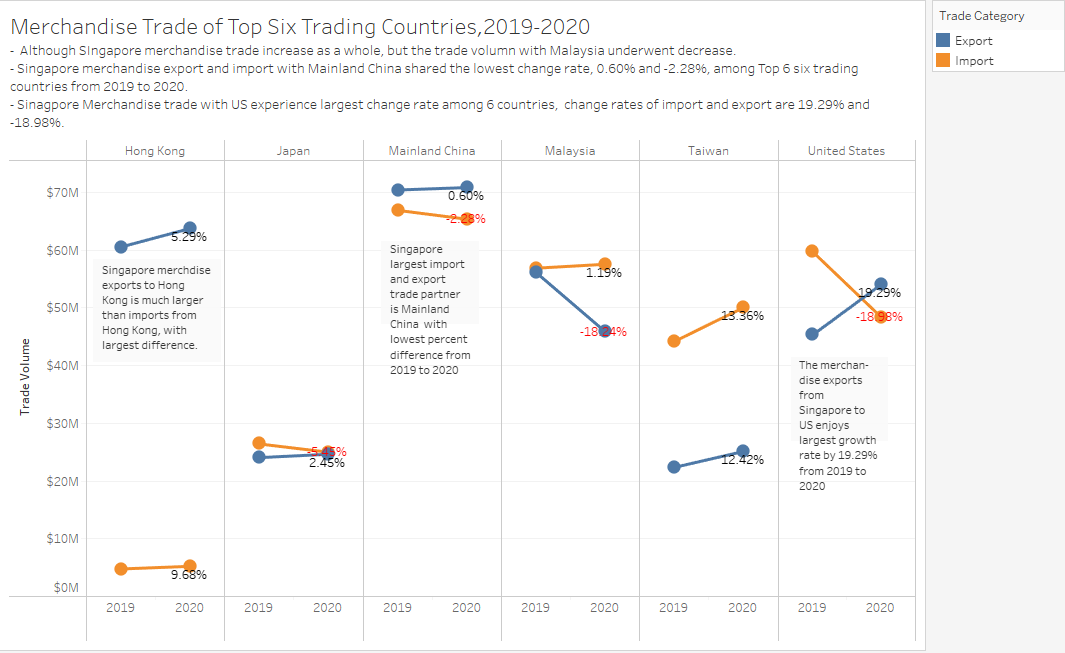

Layout of this report page (visuals, bound fields, positions):
{"tool":"tableau","page":{"name":"SG Merchandise Trade Dashboard","canvas":[1000,800],"ordinal":1},"visuals":[{"type":"worksheet","box":[0,0,1000,800]},{"type":"worksheet","param":"horz","box":[8,8,984,784]},{"type":"worksheet","box":[8,8,984,784]},{"type":"worksheet","title":"SG Merchandise Trade1","mark":"Automatic","rows":["Export","Export"],"cols":["Country","Date"],"box":[8,8,984,784]},{"type":"worksheet","title":"SG Merchandise Trade1","mark":"Automatic","rows":["Export","Export"],"cols":["Country","Date"],"param":"[federated.17rh7yu18w1c7m172bksm15t0dji].[none:Category:nk]","box":[863,176,140,58]}]}

Visuals, with their boxes on the page's 1000x800 design canvas (x1, y1, x2, y2). These are canvas units, not pixel positions in the 1065x653 screenshot, which may show the page scaled, cropped or inside an application window:
worksheet: detection(0, 0, 1000, 800)
worksheet: detection(8, 8, 992, 792)
worksheet: detection(8, 8, 992, 792)
"SG Merchandise Trade1" worksheet: detection(8, 8, 992, 792)
"SG Merchandise Trade1" worksheet: detection(863, 176, 1003, 234)
